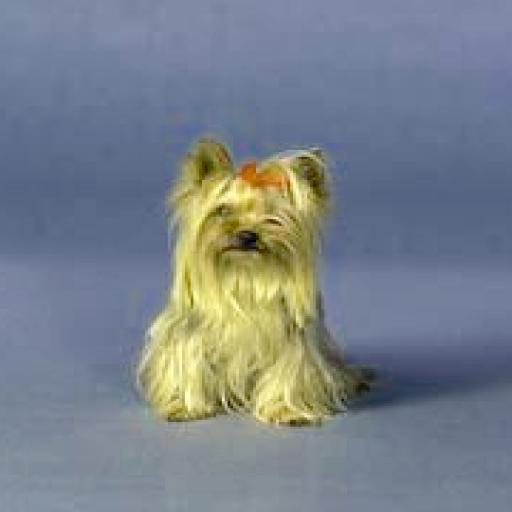dog_face: (175, 138, 326, 279)
